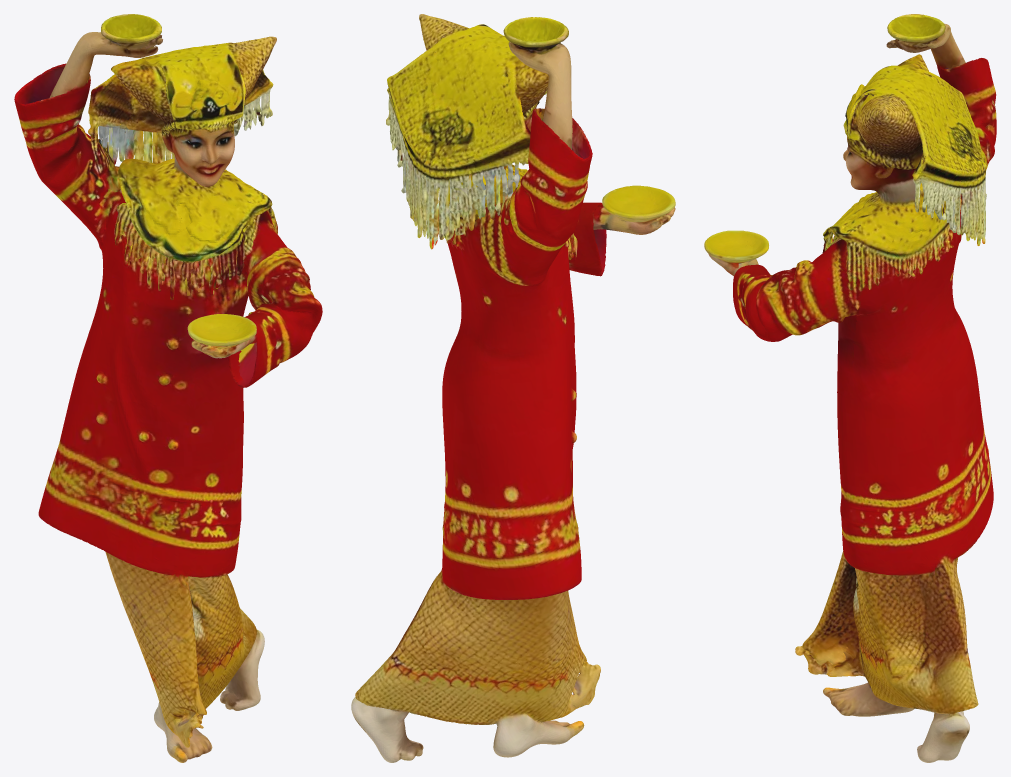
Rendered from penari-piring.glb.
The picture shows the model from 3 angles, left to right: view 1: azimuth 30°, elevation 25°; view 2: azimuth 150°, elevation 25°; view 3: azimuth 270°, elevation 25°; orthographic projection. The views are drawn at different scales.
Visible parts, largest first — view 1: Object_4; view 2: Object_4; view 3: Object_4.
Part boxes in pixels (bbox=[...]): Object_4: bbox=[14, 14, 322, 762]; Object_4: bbox=[351, 14, 675, 762]; Object_4: bbox=[704, 14, 996, 762].
Bounding box in the file's own units: 0.3448 × 1 × 0.3907.
Materials: 1 (1 with a texture image).
